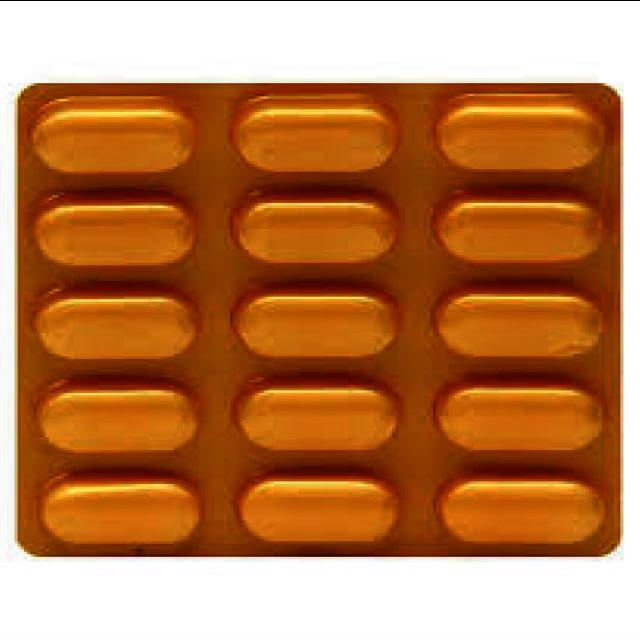authentic: (8, 74, 638, 572)
